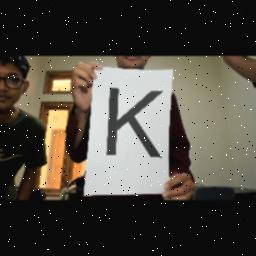k: (102, 80, 166, 164)
